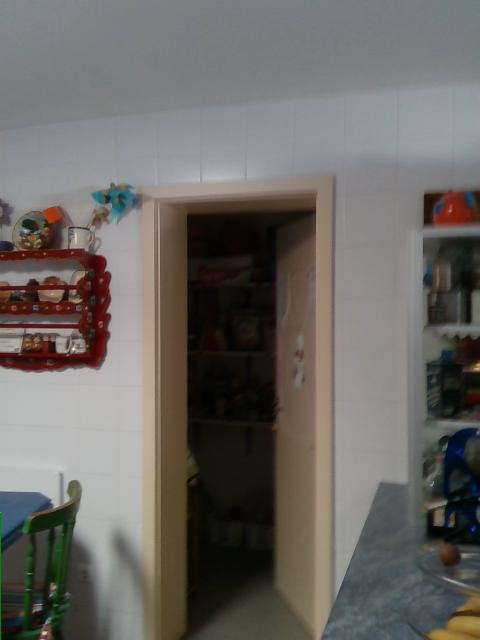semi_door: (136, 172, 338, 639)
